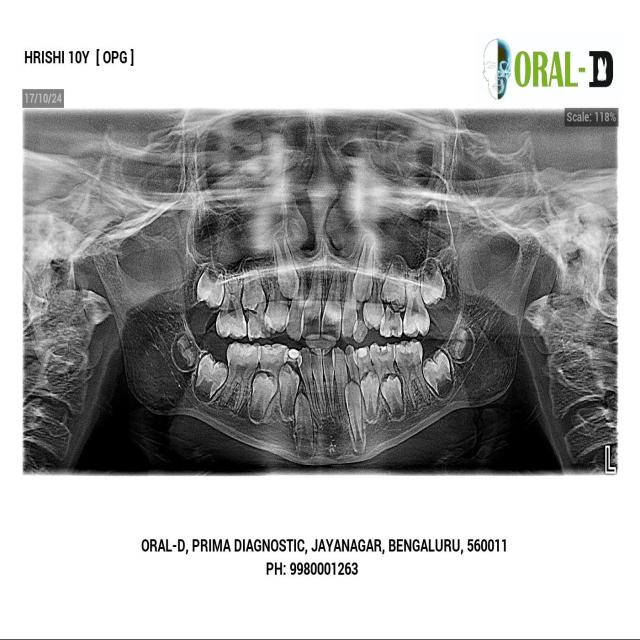Premolars: (352, 343, 378, 393)
